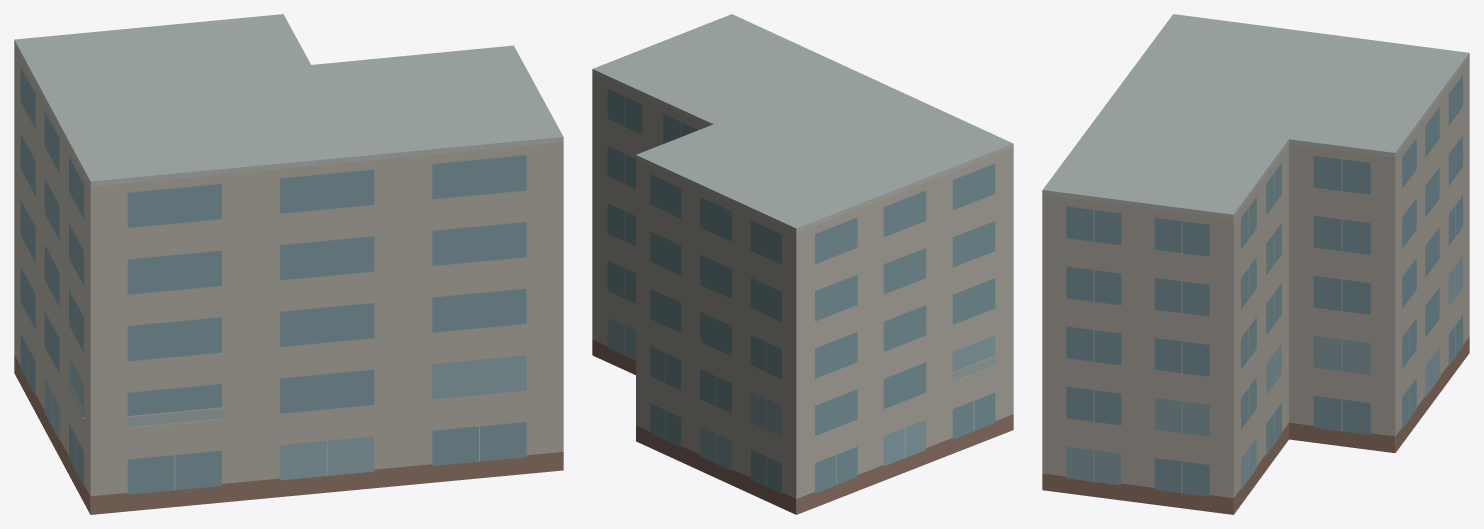
File: survey-upis-33043418.glb
3 views of the same model, side by side, from view 1: azimuth 30°, elevation 25°; view 2: azimuth 150°, elevation 25°; view 3: azimuth 270°, elevation 25° (orthographic). The views are drawn at different scales.
Visible parts, largest first — view 1: survey-upis-33043418.tmp; view 2: survey-upis-33043418.tmp; view 3: survey-upis-33043418.tmp.
Part boxes in pixels (x1=…): survey-upis-33043418.tmp: x1=14, y1=14, x2=563, y2=514; survey-upis-33043418.tmp: x1=592, y1=14, x2=1013, y2=514; survey-upis-33043418.tmp: x1=1042, y1=14, x2=1469, y2=514.
Bounding box in the file's own units: 22.23 × 15.5 × 20.
